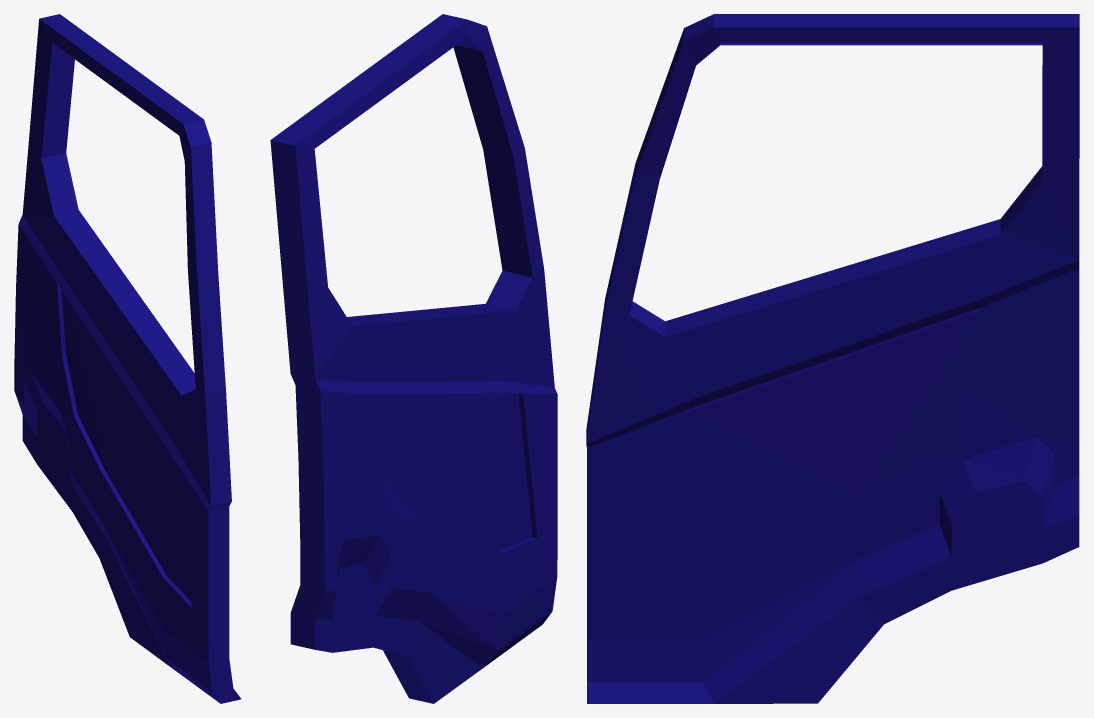
Rendered from xeTai_Cua.obj.
3 renders of one model, left to right at view 1: azimuth 30°, elevation 25°; view 2: azimuth 150°, elevation 25°; view 3: azimuth 270°, elevation 25°, orthographic. The views are drawn at different scales.
Parts seen in each view (by area): view 1: Truck_door.R; view 2: Truck_door.R; view 3: Truck_door.R.
Boxes of the visible parts, x1,y1,x2,y2 form: Truck_door.R: (14, 14, 241, 703); Truck_door.R: (270, 14, 557, 703); Truck_door.R: (586, 14, 1079, 703).
Size of the model in its own units: 0.1165 by 1.24 by 0.8109.
